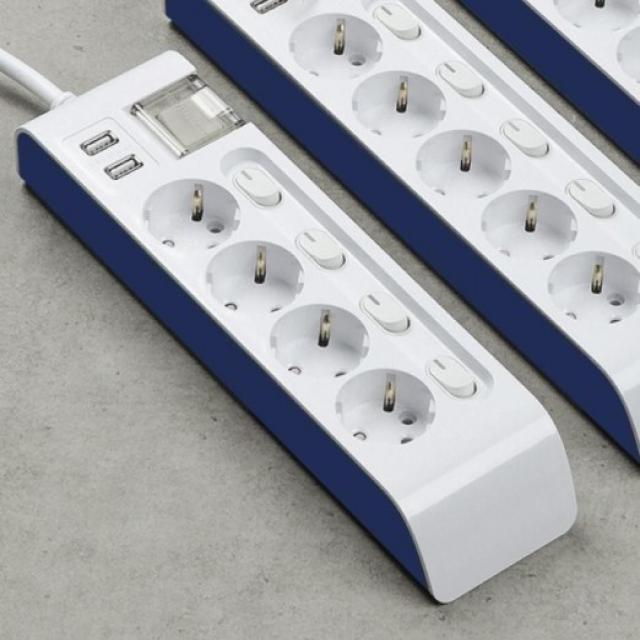typeb: (0, 86, 594, 620)
